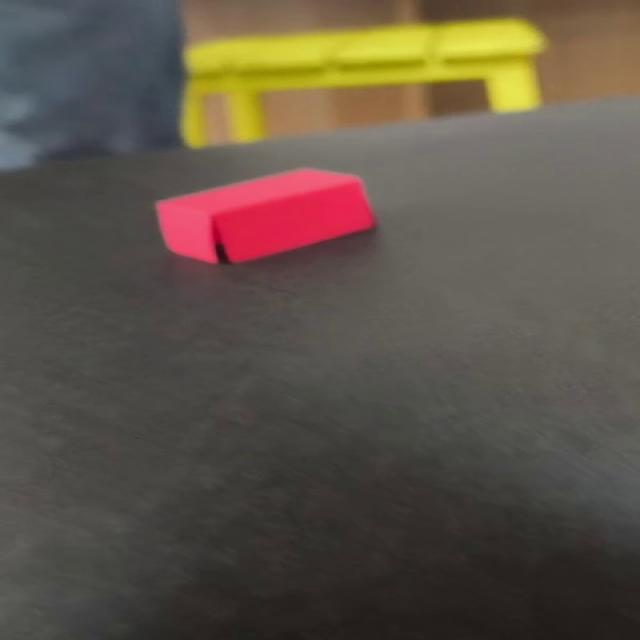red block: (153, 166, 376, 264)
